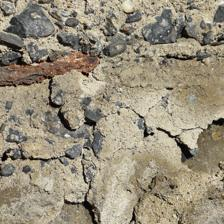Crack: (40, 47, 151, 131), (32, 21, 105, 82), (41, 0, 99, 45), (93, 30, 130, 76), (48, 61, 86, 92)
